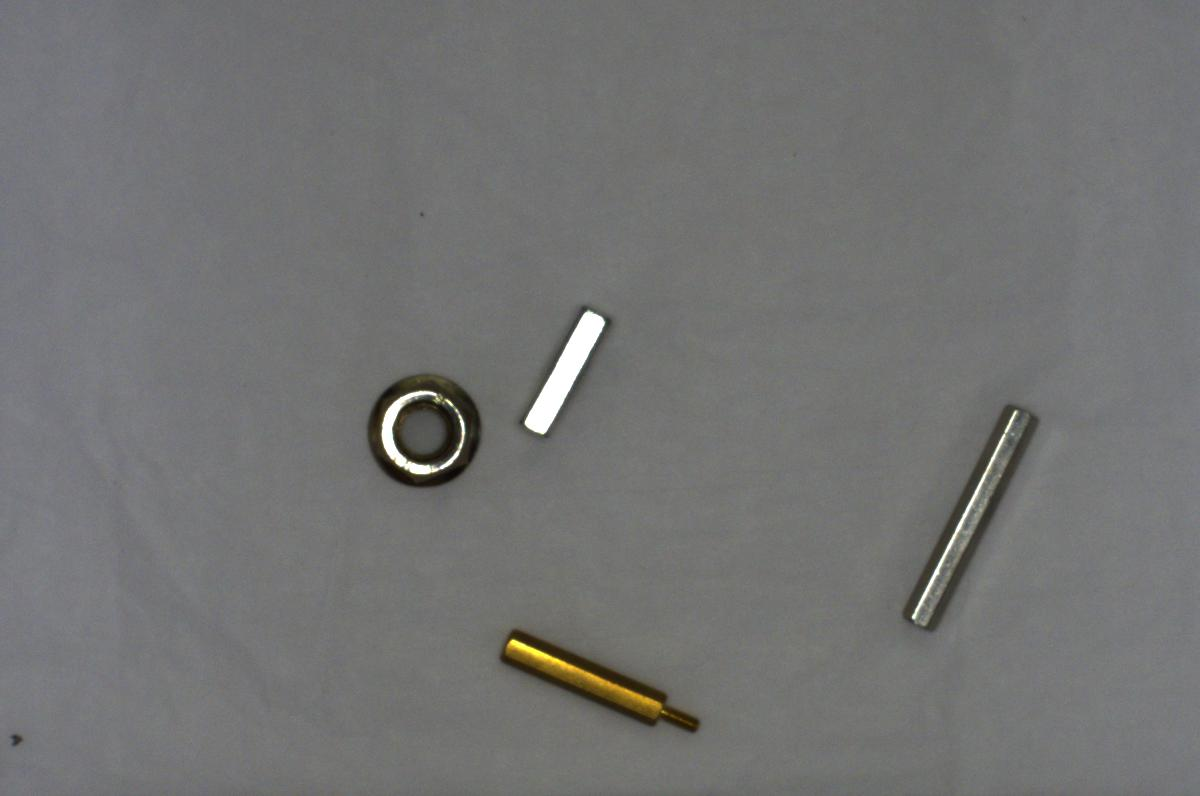Double hexagonal column: (880, 385, 1044, 635)
Flange nut: (358, 362, 493, 490)
Hexagon pillar: (488, 622, 713, 745)
Rectangular nut: (510, 296, 615, 446)
